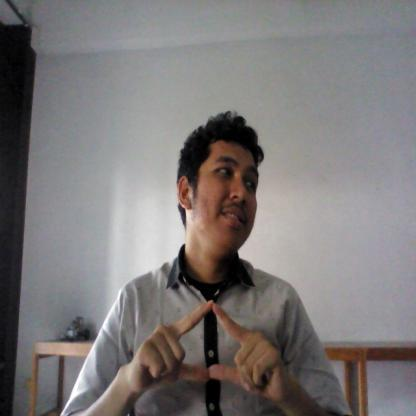A: (128, 298, 286, 398)
